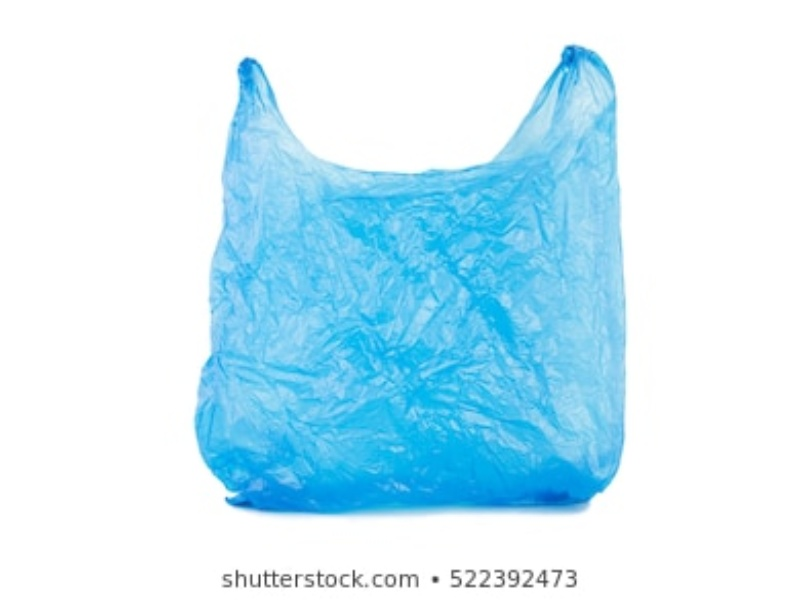plastic-bag: (192, 39, 630, 516)
